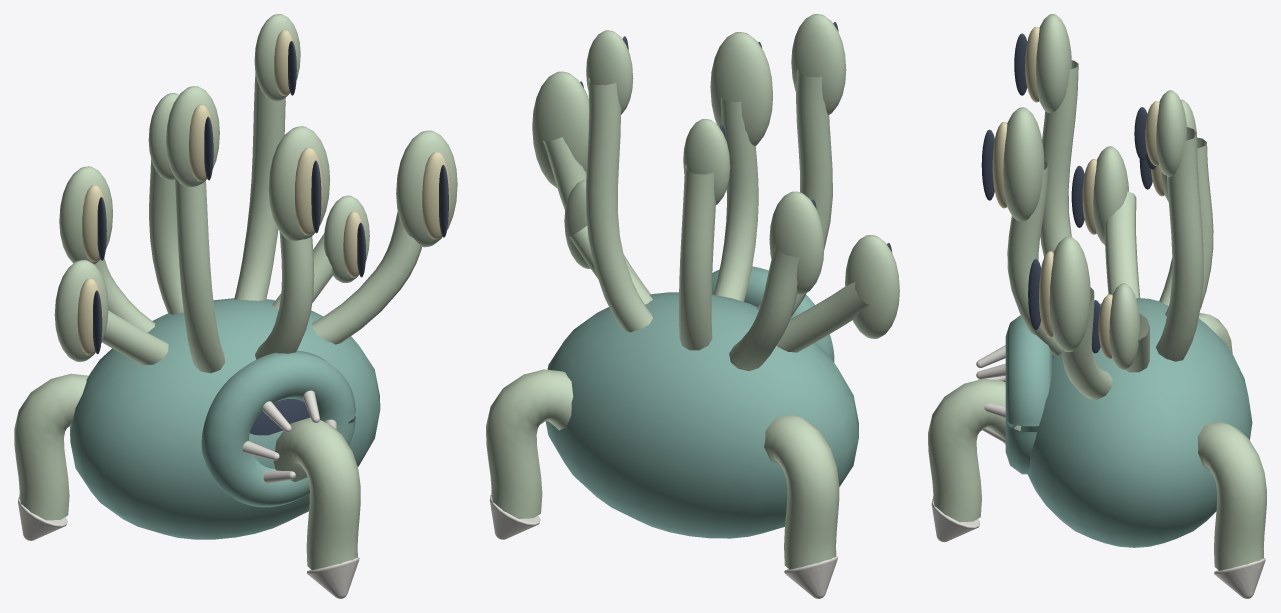
The model's file is bio_eye_orchard_04_near.glb.
3 views of the same model, side by side, from view 1: azimuth 30°, elevation 25°; view 2: azimuth 150°, elevation 25°; view 3: azimuth 270°, elevation 25° (orthographic). The views are drawn at different scales.
Visible parts, largest first — view 1: Rooted muscular caudex, Raised oral lip, Asymmetric ocular branch.007, Crooked support.002, Asymmetric ocular branch.005, Asymmetric ocular branch.003, Asymmetric ocular branch.002, Crooked support.001, Asymmetric ocular branch.006, Asymmetric ocular branch.004, Asymmetric ocular branch.001, Asymmetric ocular branch (+13 smaller); view 2: Rooted muscular caudex, Asymmetric ocular branch.002, Asymmetric ocular branch.003, Crooked support, Asymmetric ocular branch.006, Crooked support.001, Asymmetric ocular branch.007, Asymmetric ocular branch.001, Asymmetric ocular branch.004, Asymmetric ocular branch.005, Asymmetric ocular branch, Raised oral lip (+2 smaller); view 3: Rooted muscular caudex, Asymmetric ocular branch.003, Crooked support.002, Crooked support, Asymmetric ocular branch.007, Asymmetric ocular branch.002, Asymmetric ocular branch.005, Raised oral lip, Asymmetric ocular branch.004, Asymmetric ocular branch, Asymmetric ocular branch.006, Contact spur (+14 smaller).
Part boxes in pixels (x1,y1,x2,y2): Rooted muscular caudex: (70, 298, 380, 539); Raised oral lip: (201, 350, 355, 507); Asymmetric ocular branch.007: (166, 86, 225, 373); Crooked support.002: (273, 417, 360, 570); Asymmetric ocular branch.005: (312, 130, 457, 344); Asymmetric ocular branch.003: (234, 14, 300, 300); Asymmetric ocular branch.002: (255, 126, 329, 359); Crooked support.001: (14, 373, 88, 520); Asymmetric ocular branch.006: (148, 93, 183, 314); Asymmetric ocular branch.004: (54, 260, 168, 365); Asymmetric ocular branch.001: (59, 166, 155, 332); Asymmetric ocular branch: (272, 195, 369, 309); Rooted muscular caudex: (545, 292, 858, 538); Asymmetric ocular branch.002: (710, 32, 772, 301); Asymmetric ocular branch.003: (586, 30, 652, 332); Crooked support: (486, 369, 573, 518); Asymmetric ocular branch.006: (679, 119, 730, 350); Crooked support.001: (764, 414, 839, 570); Asymmetric ocular branch.007: (756, 14, 846, 316); Asymmetric ocular branch.001: (729, 191, 824, 371); Asymmetric ocular branch.004: (776, 235, 899, 352); Asymmetric ocular branch.005: (532, 71, 650, 294); Asymmetric ocular branch: (564, 180, 652, 304); Raised oral lip: (712, 266, 834, 362); Rooted muscular caudex: (1020, 298, 1252, 547); Asymmetric ocular branch.003: (1156, 90, 1203, 361); Crooked support.002: (928, 379, 1020, 522); Crooked support: (1197, 421, 1266, 571); Asymmetric ocular branch.007: (1036, 14, 1078, 257); Asymmetric ocular branch.002: (1003, 107, 1061, 355); Asymmetric ocular branch.005: (1049, 236, 1112, 399); Raised oral lip: (1005, 315, 1052, 474); Asymmetric ocular branch.004: (1093, 146, 1140, 298); Asymmetric ocular branch: (1109, 283, 1149, 372); Asymmetric ocular branch.006: (1165, 99, 1213, 316); Contact spur: (1214, 558, 1265, 598).
Bounding box in the file's own units: 1.63 × 2.03 × 1.29.
